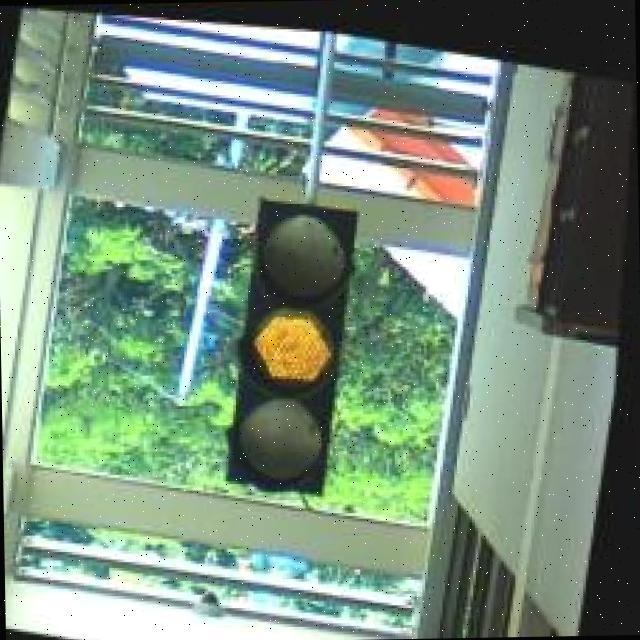yellow_light: (215, 185, 372, 493)
